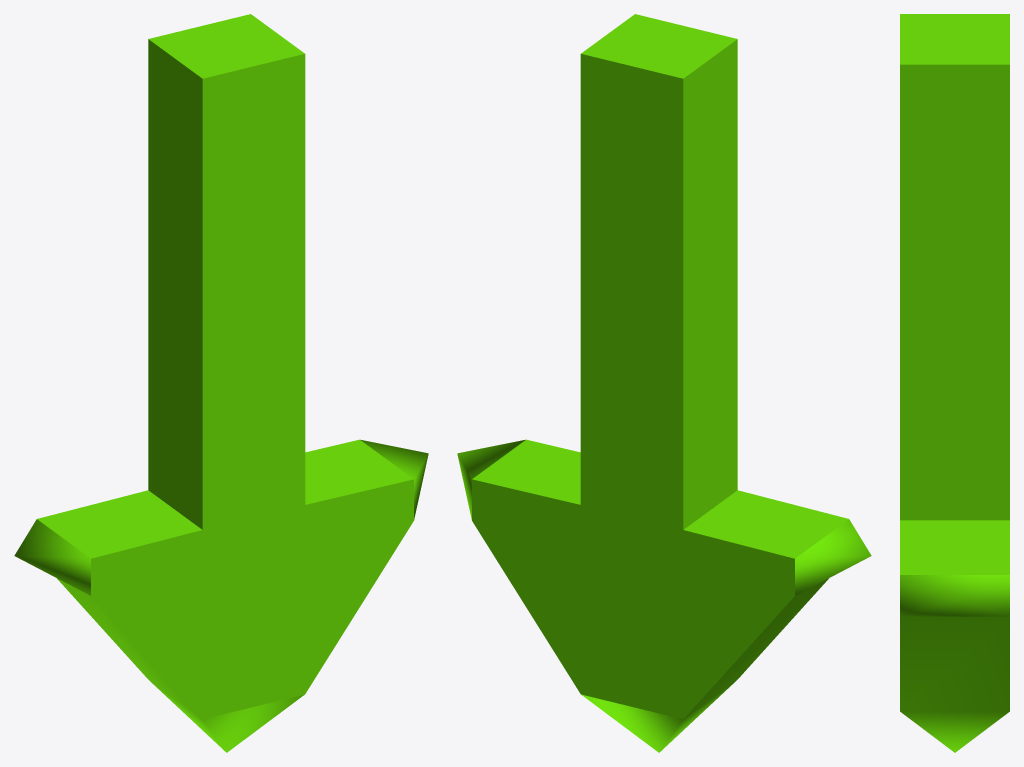
File: Arrow_animation.fbx
3 renders of one model, left to right at view 1: azimuth 30°, elevation 25°; view 2: azimuth 150°, elevation 25°; view 3: azimuth 270°, elevation 25°, orthographic.
Parts seen in each view (by area): view 1: pCube4; view 2: pCube4; view 3: pCube4.
Part boxes in pixels (x1,y1,x2,y2): pCube4: (14,14,428,752); pCube4: (457,14,871,752); pCube4: (900,14,1009,752).
Size of the model in its own units: 48.46 by 78.94 by 11.
